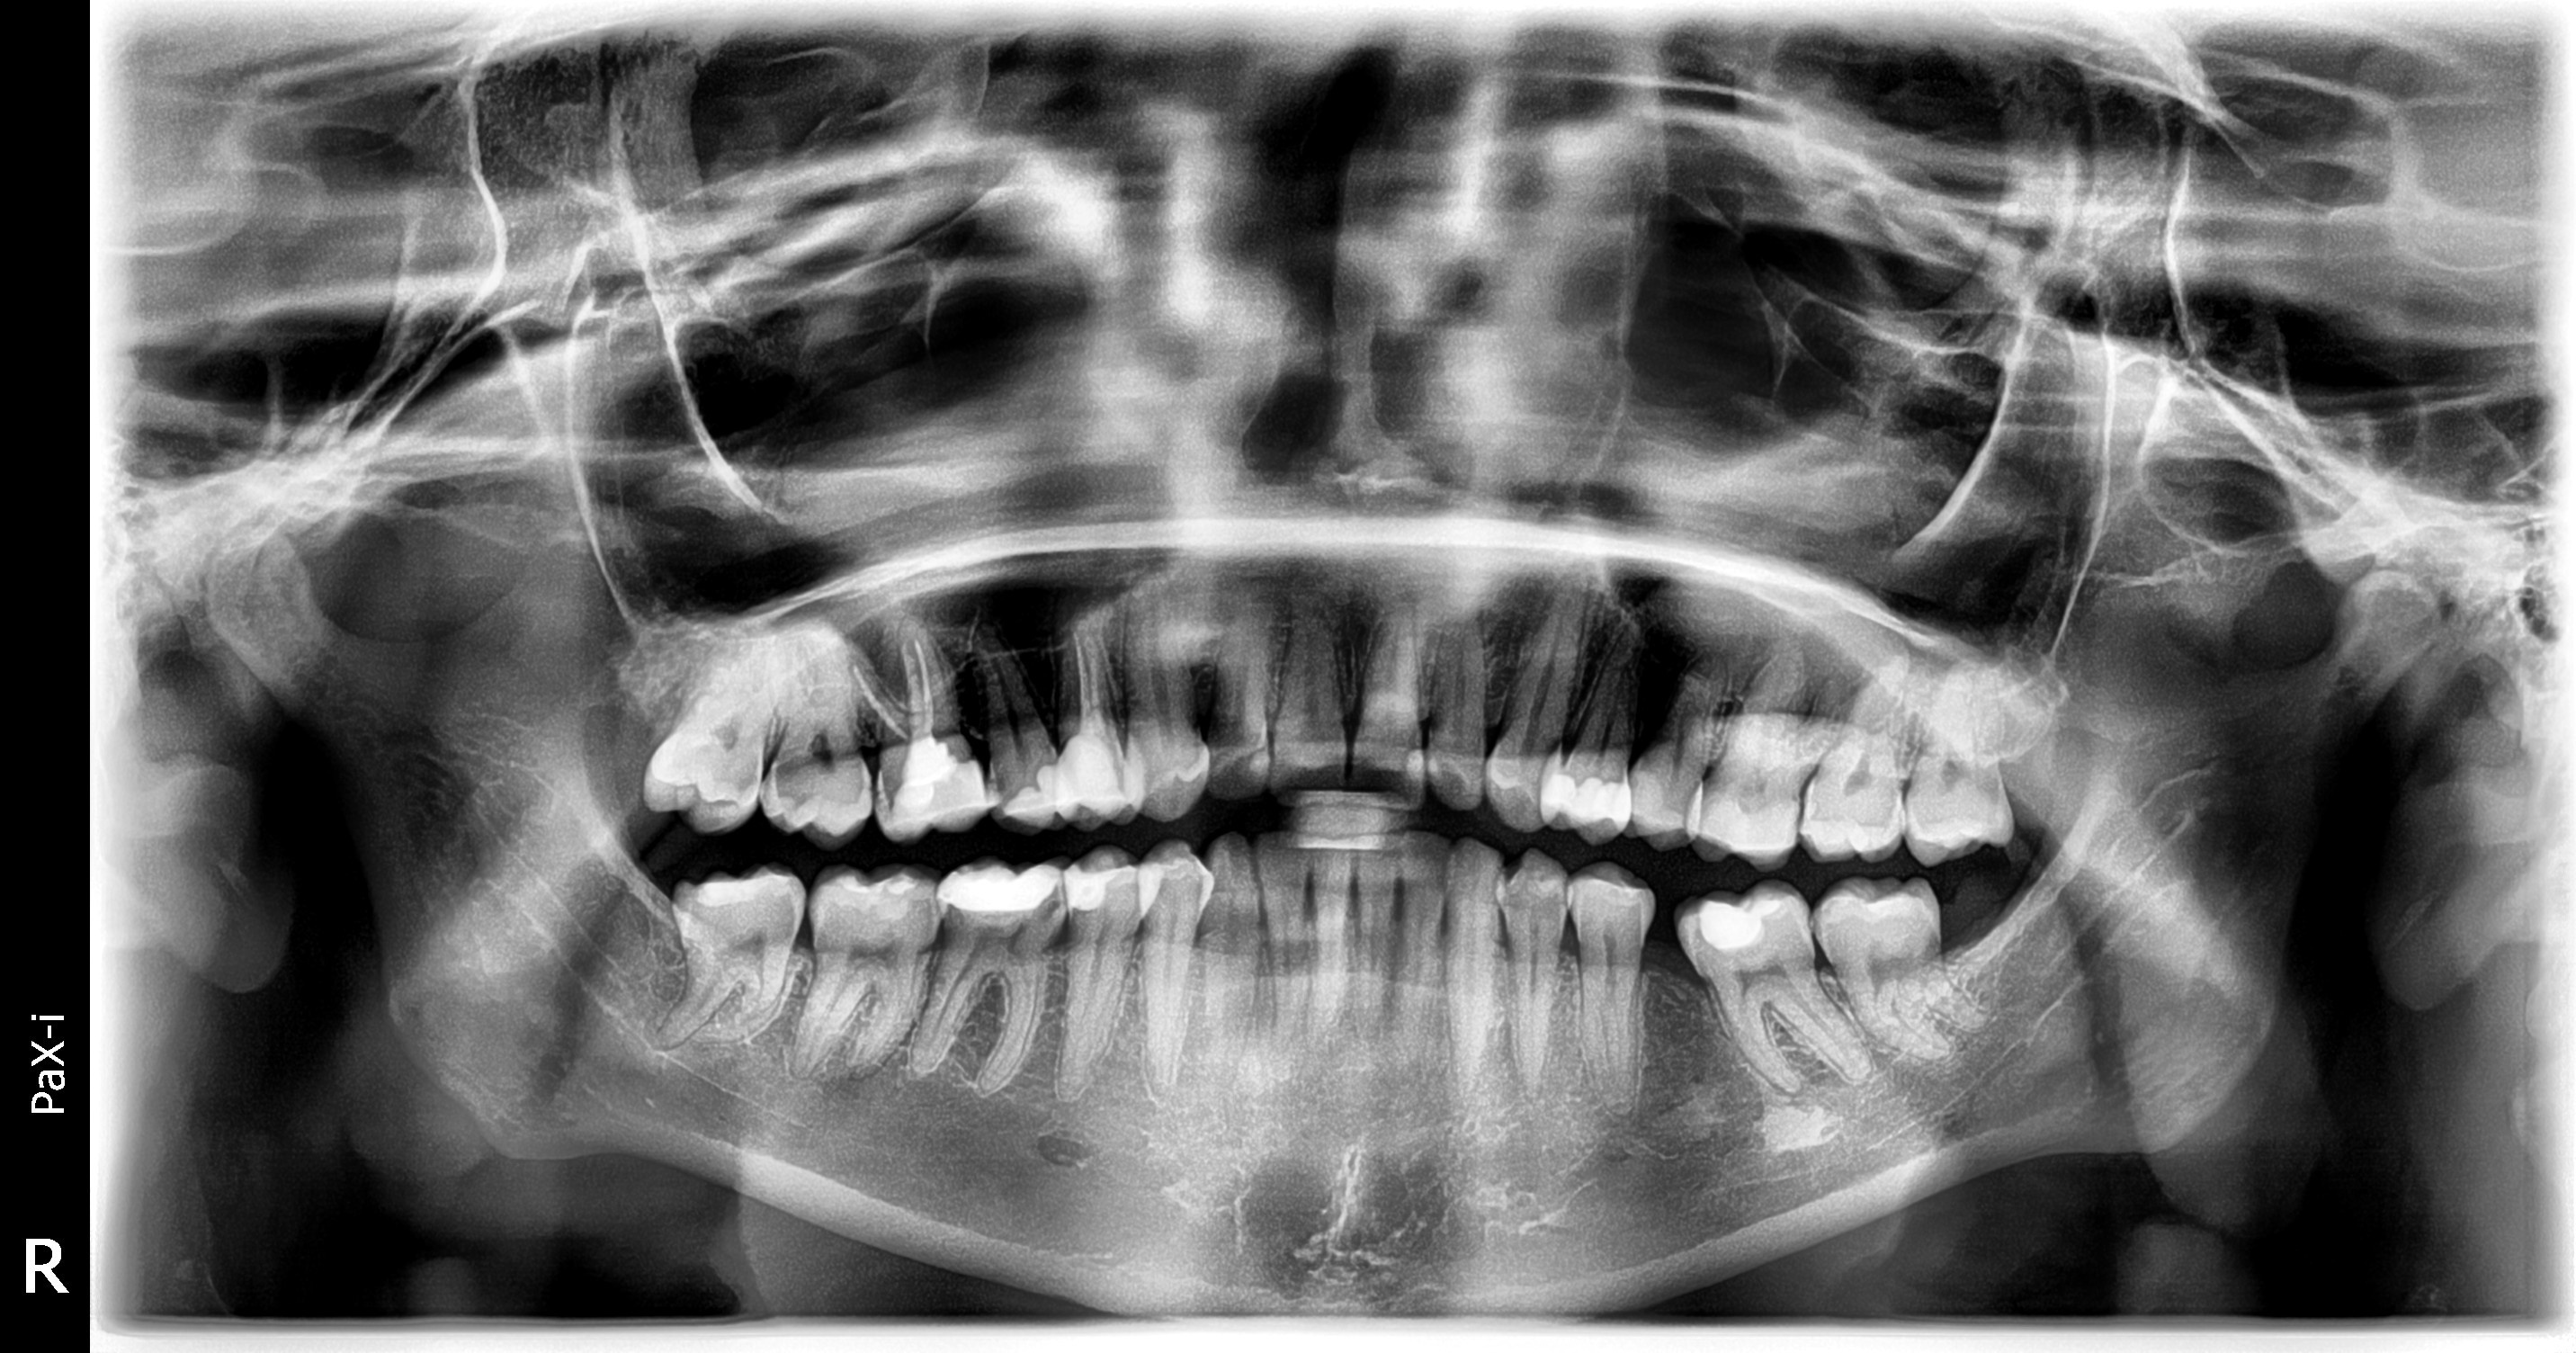CAR: (986, 751, 1005, 792)
END: (850, 639, 932, 743)
OBT: (891, 734, 985, 821)
